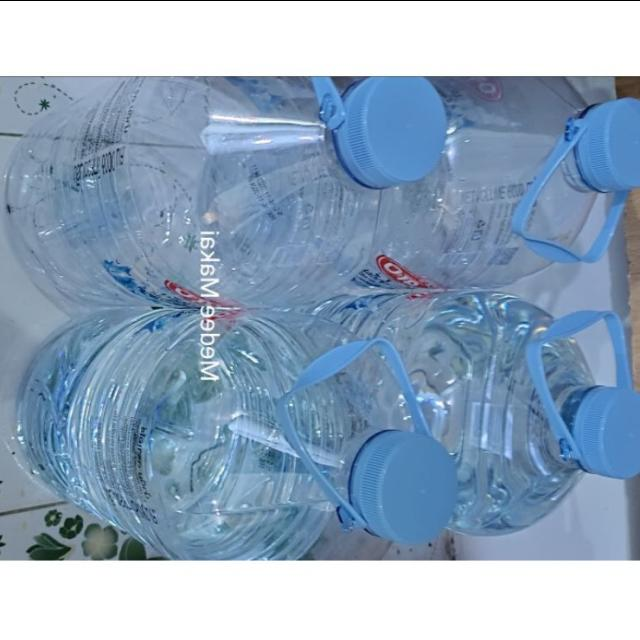plastik: (18, 307, 458, 558), (7, 77, 446, 310), (313, 290, 640, 534), (355, 77, 640, 286)
